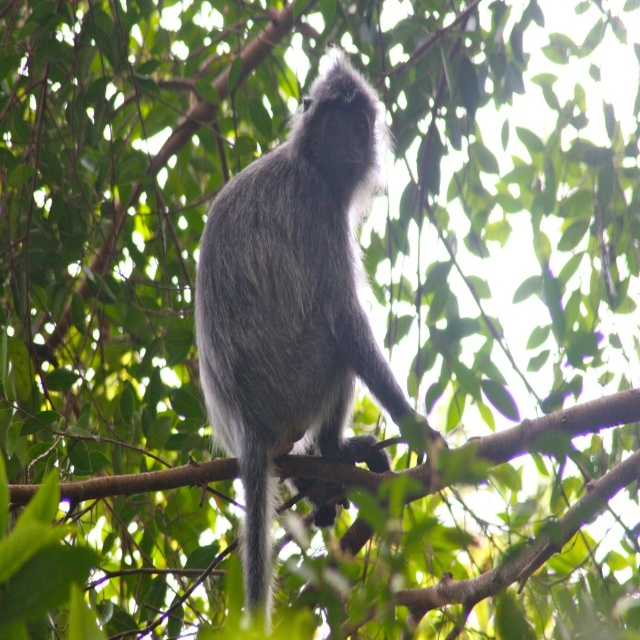Monkey: (194, 50, 450, 640)
